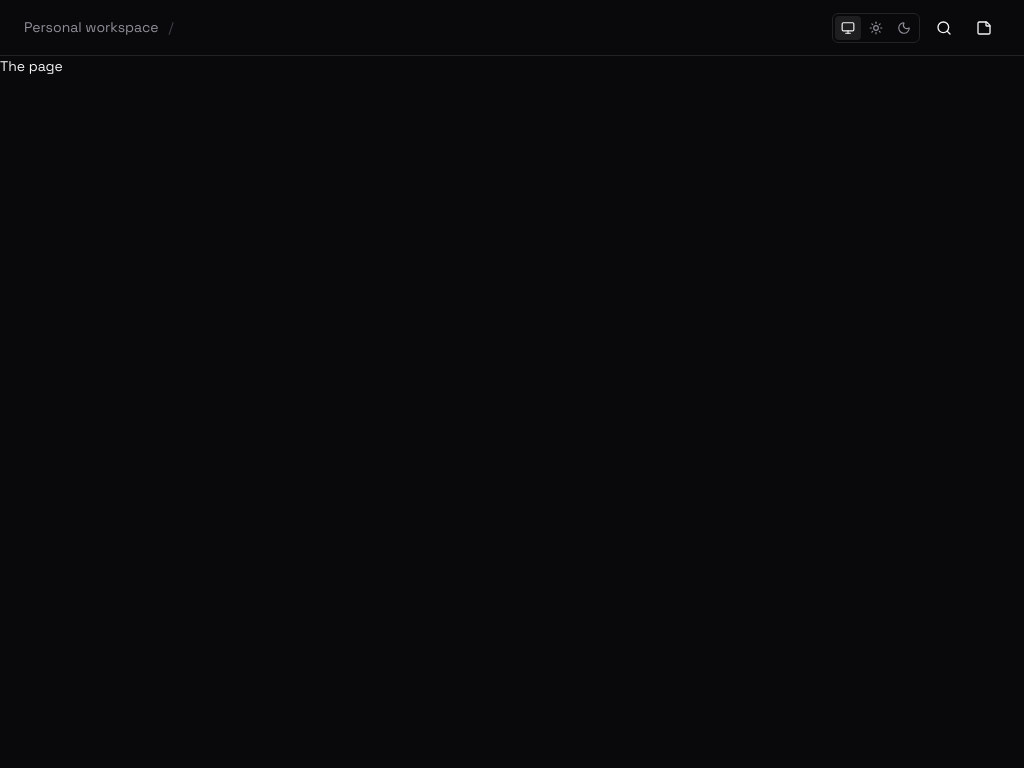
Scenario: what is typed is kept when the pad closes without saving
Click the button named "Scratch pad". click: click(984, 28)
box: x1=968 y1=12 x2=1000 y2=44
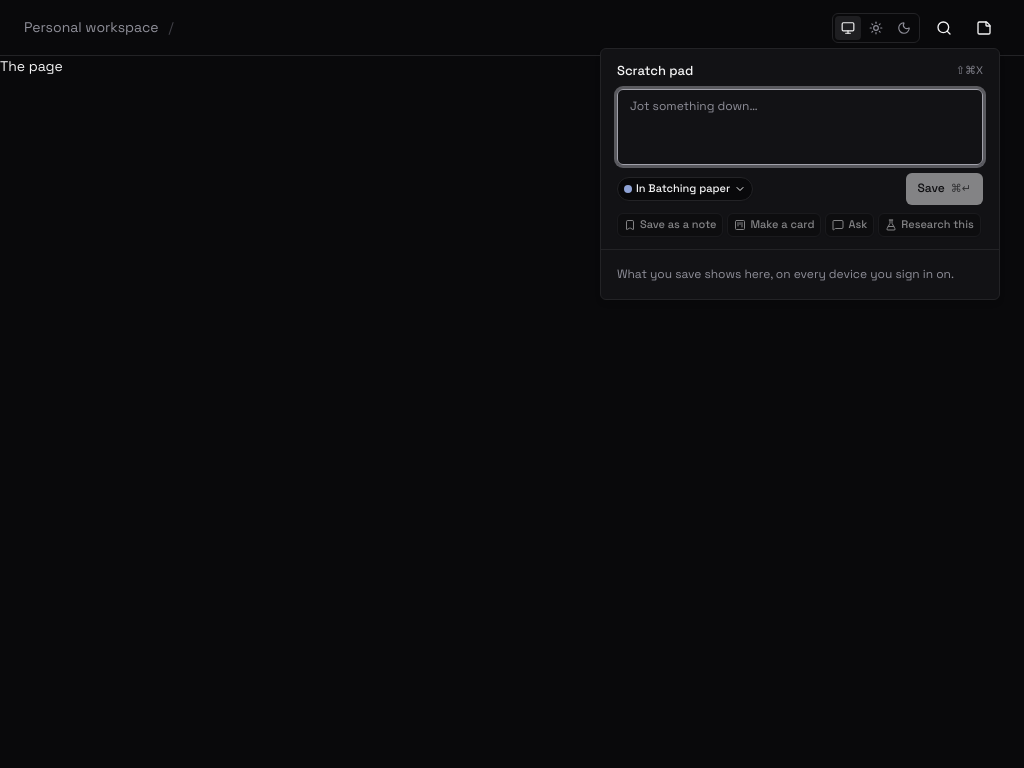
Type "Half a thought" into the text box labelled "Jot something down". click: (800, 126)
box: x1=617 y1=88 x2=983 y2=164
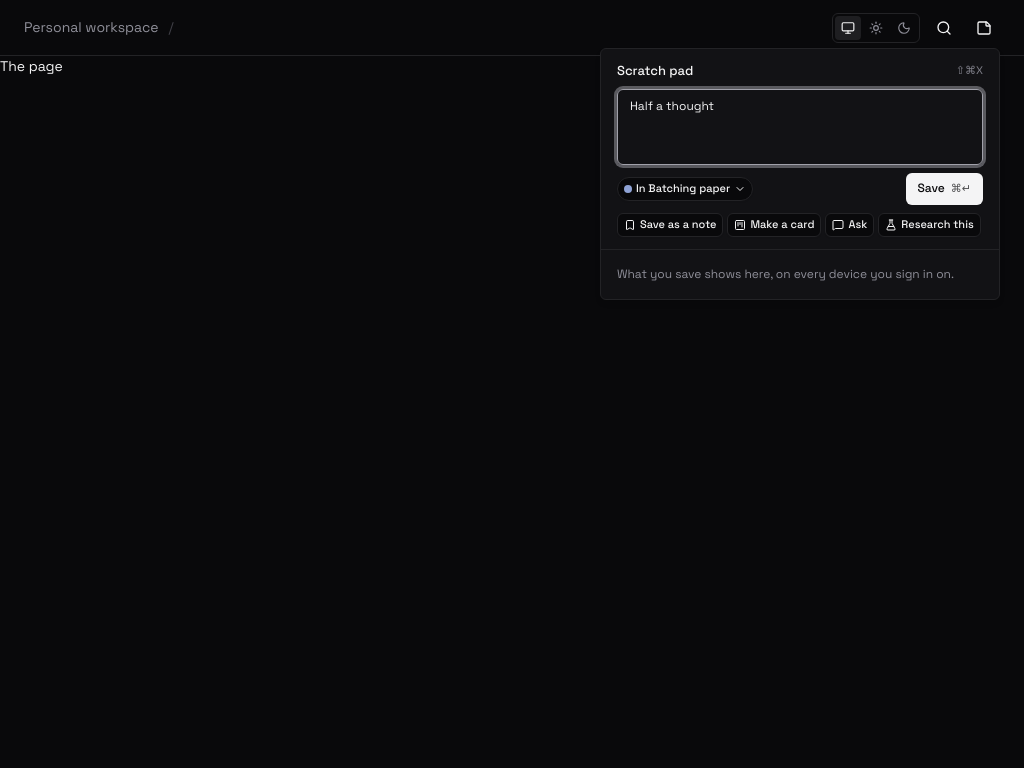
Press Escape
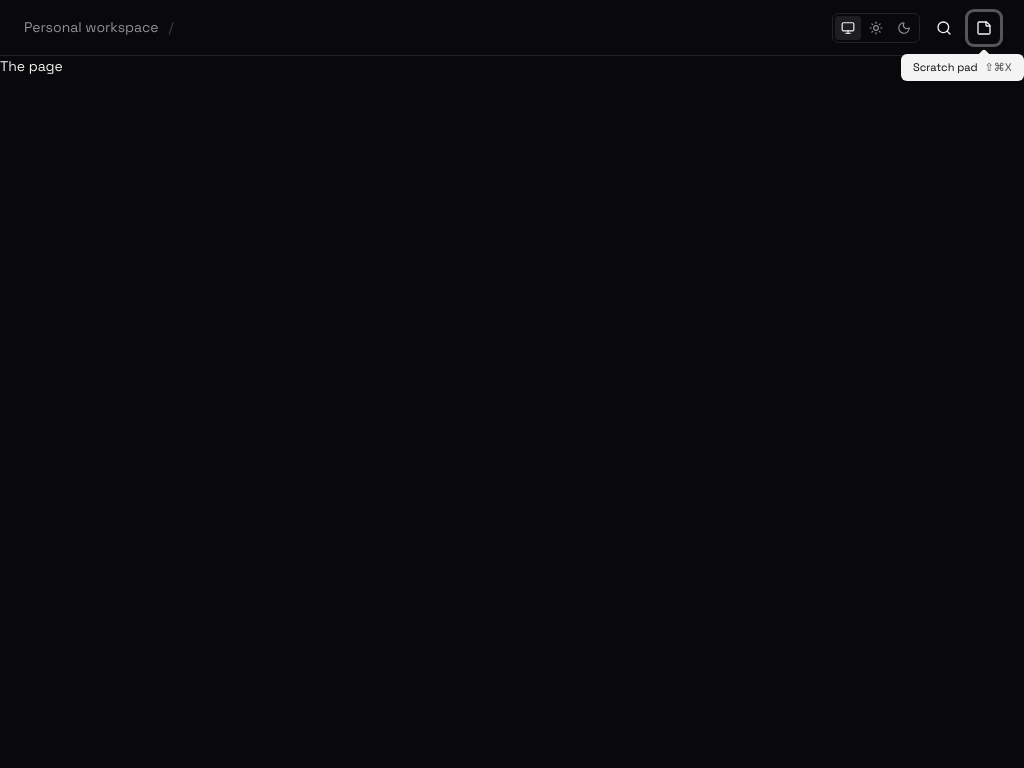
Expected: the dialog is gone
Click the button named "Scratch pad". click: click(984, 28)
box: x1=968 y1=12 x2=1000 y2=44
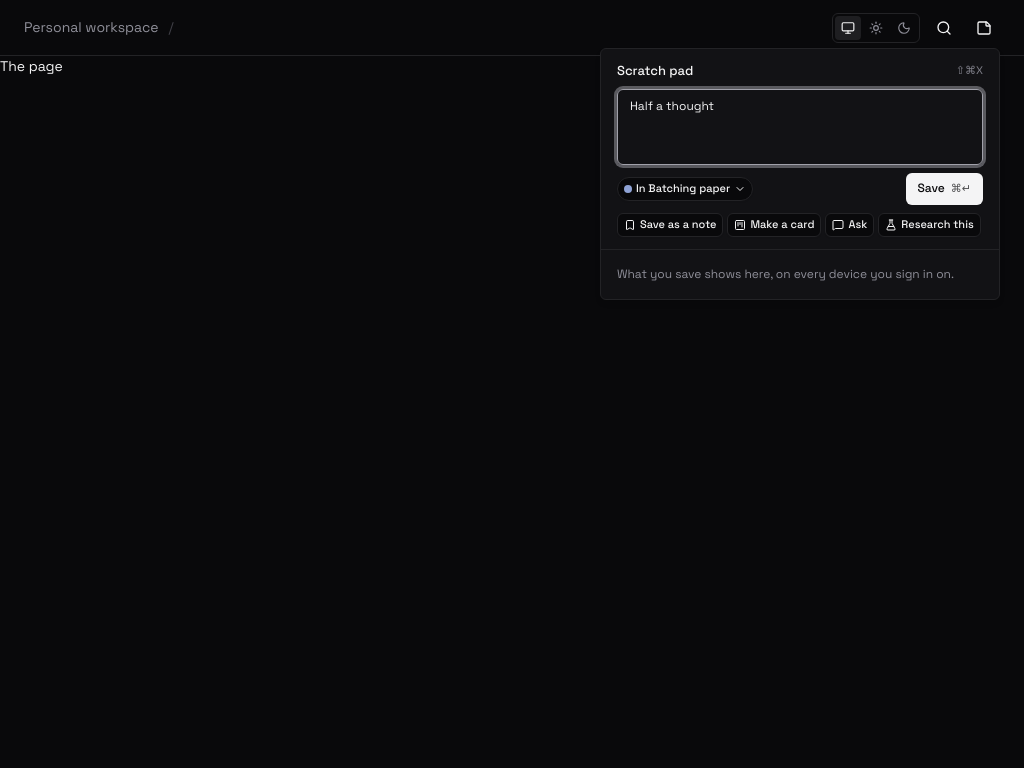
Expected: the text box named "Jot something down" holds "Half a thought", x1=617 y1=88 x2=983 y2=164
